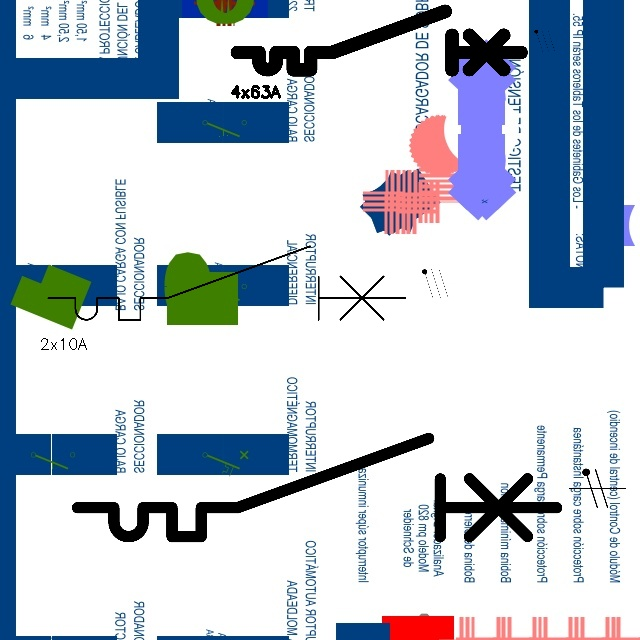interruptor_termomagnetico: (65, 426, 569, 549), (39, 237, 414, 329), (230, 4, 528, 77)
